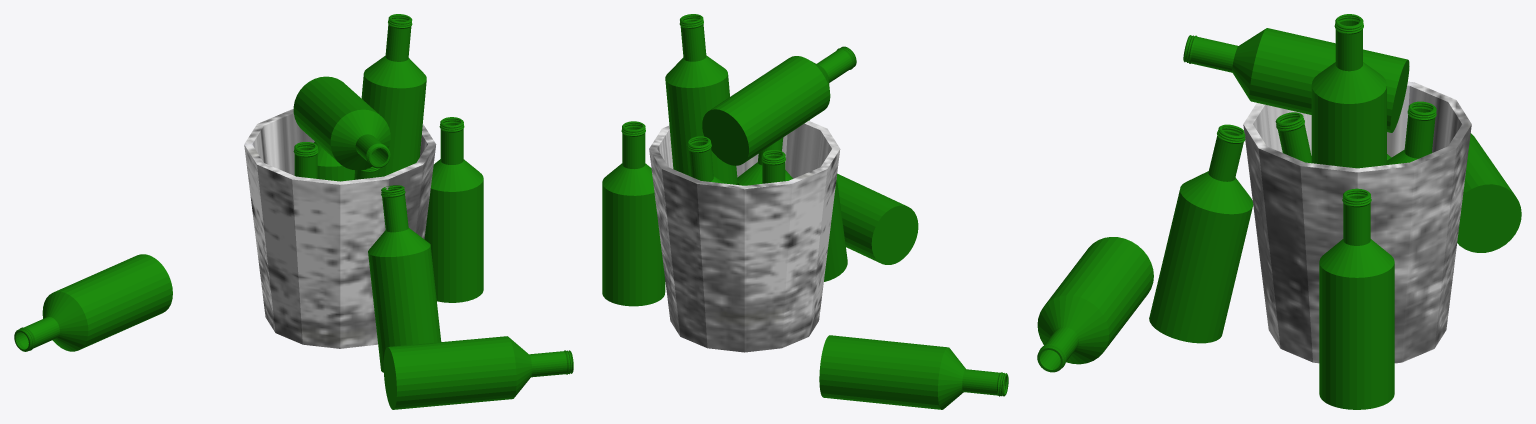
File: Cervejas.fbx
The picture shows the model from 3 angles, left to right: view 1: azimuth 30°, elevation 25°; view 2: azimuth 150°, elevation 25°; view 3: azimuth 270°, elevation 25°; orthographic projection. The views are drawn at different scales.
Parts seen in each view (by area): view 1: Cylinder.005, Cylinder.001; view 2: Cylinder.005, Cylinder.001; view 3: Cylinder.005, Cylinder.001.
Boxes of the visible parts, <box> form: Cylinder.005: <box>14,14,573,409</box>; Cylinder.001: <box>244,109,436,348</box>; Cylinder.005: <box>602,14,1008,409</box>; Cylinder.001: <box>649,120,840,352</box>; Cylinder.005: <box>1037,14,1521,409</box>; Cylinder.001: <box>1243,81,1471,363</box>.
Bounding box in the file's own units: 1576 × 1020 × 1286.
